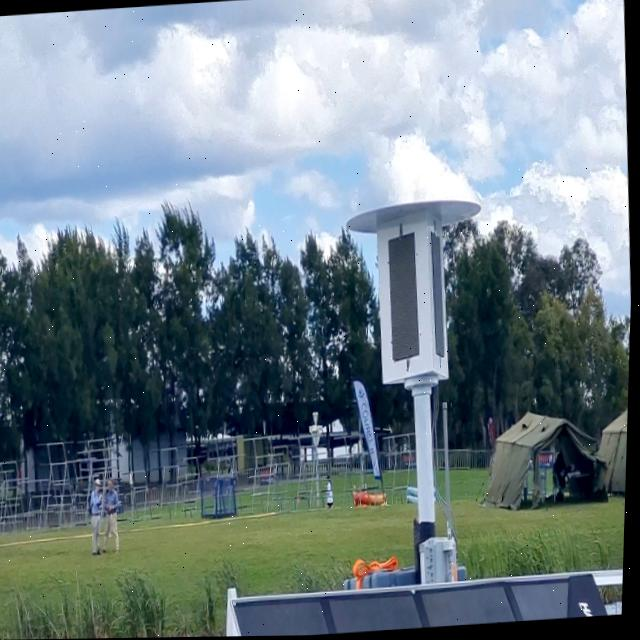led: (378, 229, 434, 371)
